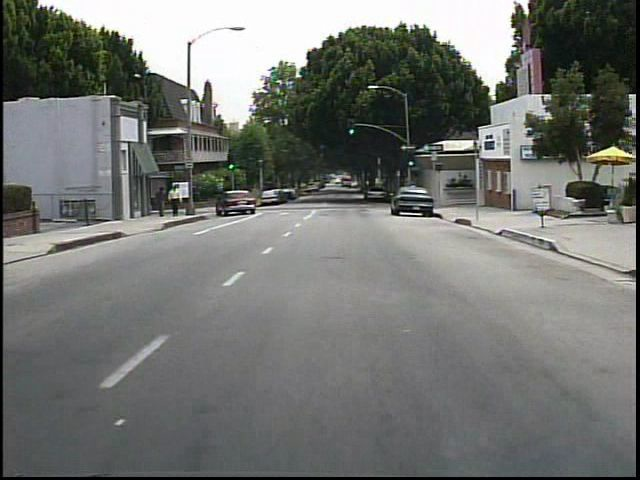person: (155, 184, 172, 217), (170, 184, 184, 217)
